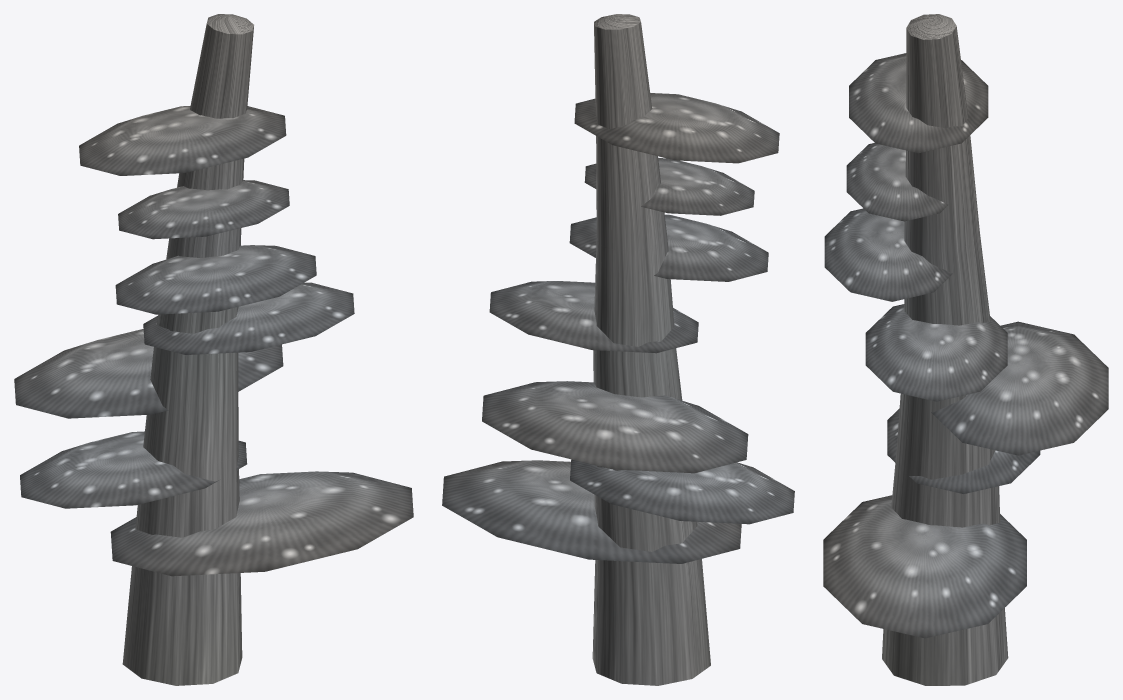
File: shelf_tower_l0.gltf
3 views of the same model, side by side, from view 1: azimuth 30°, elevation 25°; view 2: azimuth 150°, elevation 25°; view 3: azimuth 270°, elevation 25° (orthographic). The views are drawn at different scales.
Visible parts, largest first — view 1: shelf_tower_l0; view 2: shelf_tower_l0; view 3: shelf_tower_l0.
Boxes of the visible parts, <box> form: shelf_tower_l0: <box>14,14,413,685</box>; shelf_tower_l0: <box>442,14,794,685</box>; shelf_tower_l0: <box>823,14,1108,685</box>.
Bounding box in the file's own units: 2.46 × 4.05 × 1.58.
Materials: 2 (2 with a texture image).
